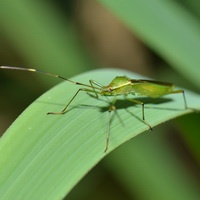insect: (0, 81, 189, 199), (71, 69, 143, 85)
